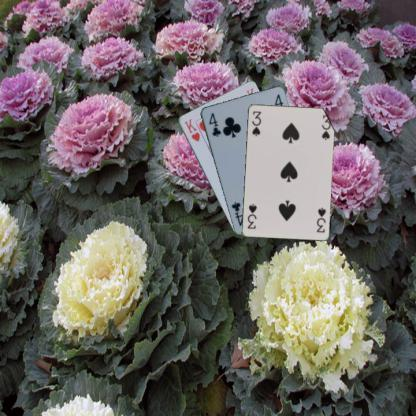3s: (314, 204, 327, 234), (249, 109, 262, 137)
4c: (206, 110, 222, 138)
Kh: (181, 116, 201, 143)
